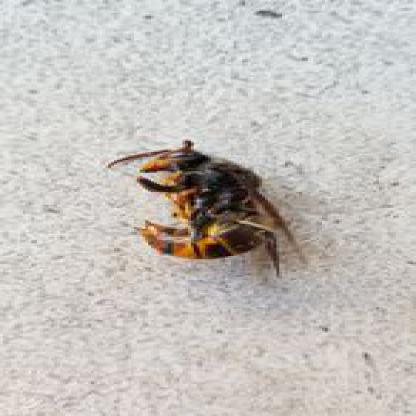Asian Hornet: (113, 126, 304, 285)
